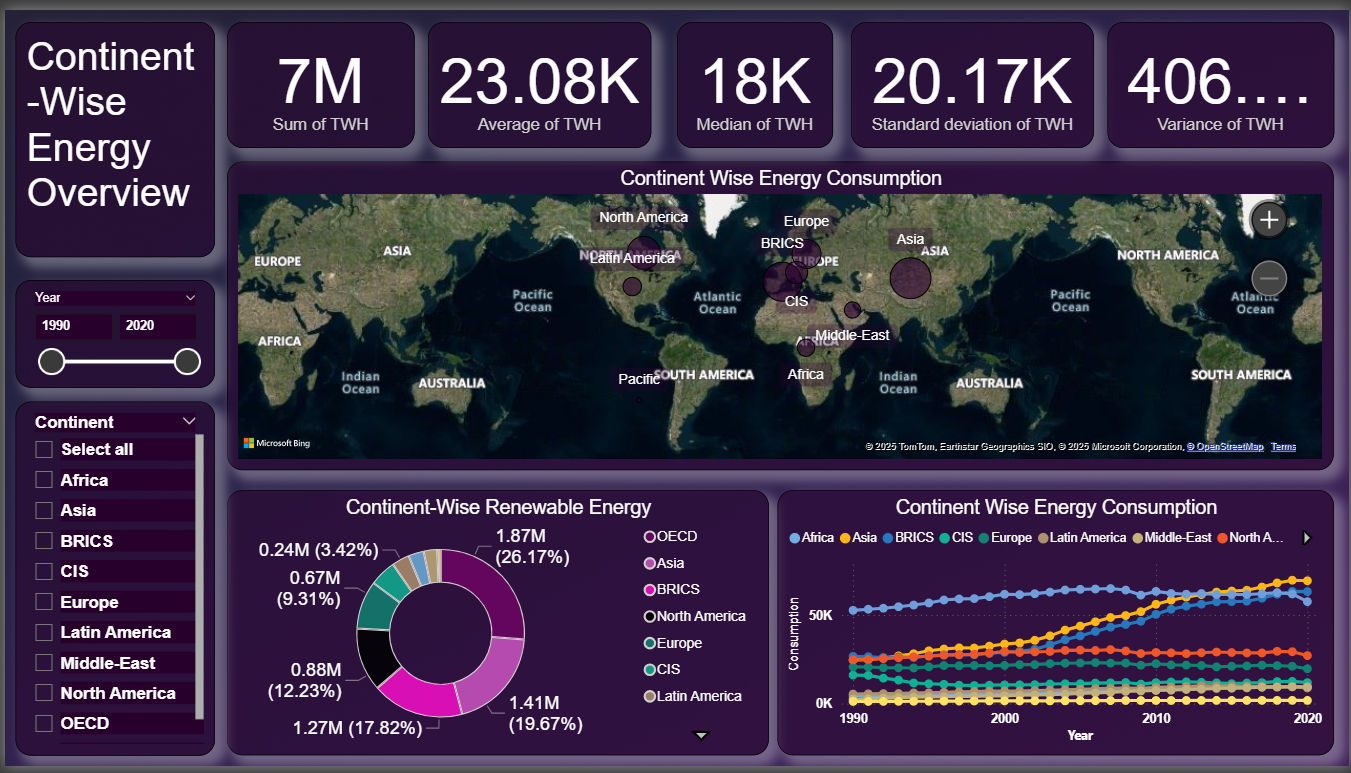

The page's visual inventory and layout, read from the dashboard file:
{"tool":"powerbi","page":{"name":" Continent Wise Energy Overview","canvas":[1280,720],"ordinal":2},"visuals":[{"type":"textbox","box":[10,11.4,190,224.3],"z":0},{"type":"donutChart","title":"Continent-Wise Renewable Energy ","fields":{"Category":["Continent_Table.Continent"],"Y":["Sum(Continent_Table.TWH)"]},"box":[211.4,457.1,515.7,252.9],"z":1000},{"type":"stackedAreaChart","title":"Continent Wise  Energy Consumption ","fields":{"Category":["Continent_Table.Year"],"Series":["Continent_Table.Continent"],"Y":["Sum(Continent_Table.TWH)"]},"box":[735.7,457.1,530,252.9],"z":2000},{"type":"slicer","fields":{"Values":["Continent_Table.Year"]},"box":[10,257.1,190,102.9],"z":3000},{"type":"map","title":"Continent Wise Energy Consumption","fields":{"Category":["Continent_Table.Continent"],"Size":["select","Sum(Continent_Table.TWH)"]},"box":[211.4,144.3,1054.3,294.3],"z":4000},{"type":"slicer","fields":{"Values":["Continent_Table.Continent"]},"box":[10,372.9,190,337.1],"z":5000},{"type":"card","fields":{"Values":["Sum(Continent_Table.TWH)"]},"box":[211.4,11.4,178.6,120],"z":6000},{"type":"card","fields":{"Values":["Sum(Continent_Table.TWH)"]},"box":[805.7,11.4,231.4,120],"z":7000},{"type":"card","fields":{"Values":["Median(Continent_Table.TWH)"]},"box":[626.9,11,167,119.7],"z":8000},{"type":"card","fields":{"Values":["Sum(Continent_Table.TWH)"]},"box":[1050,11.4,215.7,120],"z":9000},{"type":"card","fields":{"Values":["Avg(Continent_Table.TWH)"]},"box":[402.9,11.4,212.9,120],"z":10000}]}

Visuals, with their boxes in screenshot pixels (x1, y1, x2, y2), scaled from the page's 1280x720 canvas onto the 1351x773 screenshot:
textbox: rect(11, 12, 211, 253)
"Continent-Wise Renewable Energy " donutChart: rect(223, 491, 767, 762)
"Continent Wise  Energy Consumption " stackedAreaChart: rect(777, 491, 1336, 762)
slicer - Continent_Table.Year: rect(11, 276, 211, 386)
"Continent Wise Energy Consumption" map: rect(223, 155, 1336, 471)
slicer - Continent_Table.Continent: rect(11, 400, 211, 762)
card - Sum(Continent_Table.TWH): rect(223, 12, 412, 141)
card - Sum(Continent_Table.TWH): rect(850, 12, 1095, 141)
card - Median(Continent_Table.TWH): rect(662, 12, 838, 140)
card - Sum(Continent_Table.TWH): rect(1108, 12, 1336, 141)
card - Avg(Continent_Table.TWH): rect(425, 12, 650, 141)
